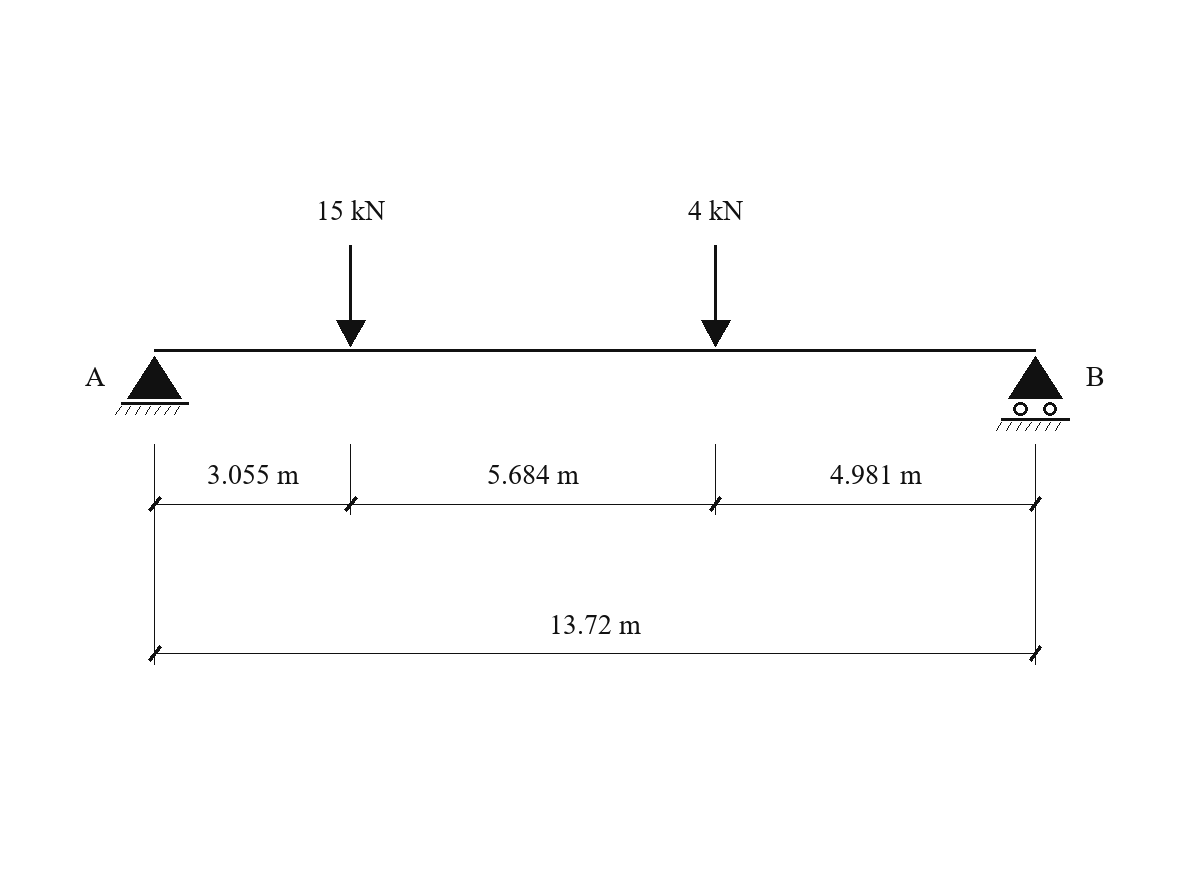pin_support: (115, 356, 189, 415)
point_load: (336, 245, 366, 347), (701, 245, 731, 347)
roller_support: (996, 356, 1070, 431)
